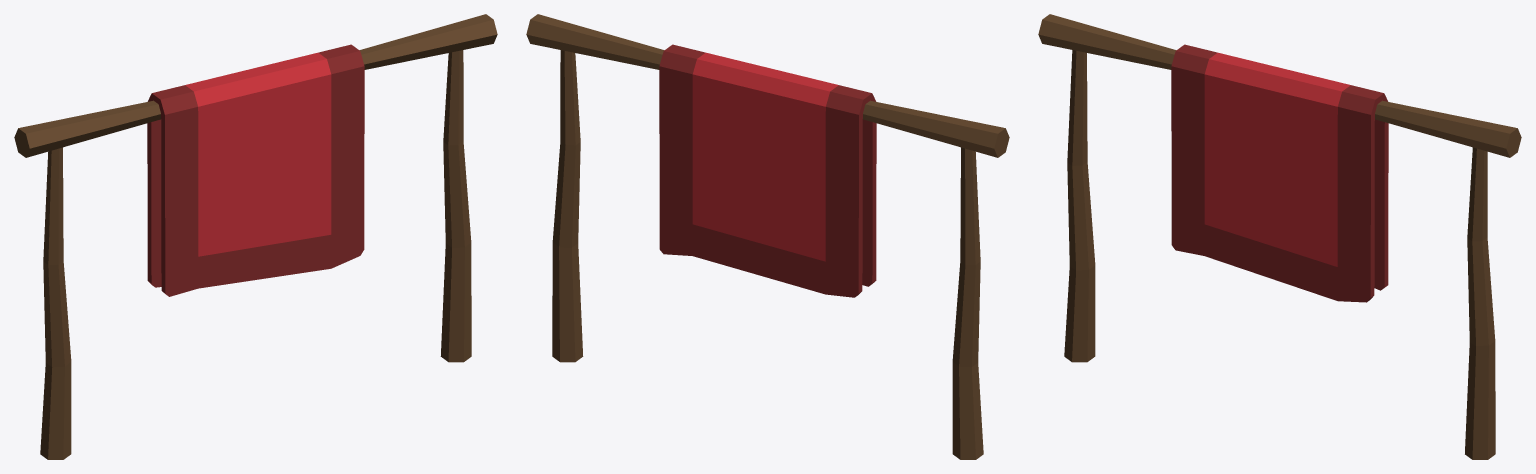
The model's file is egypt-rack.glb.
3 views of the same model, side by side, from view 1: azimuth 30°, elevation 25°; view 2: azimuth 150°, elevation 25°; view 3: azimuth 330°, elevation 25° (orthographic).
Visible parts, largest first — view 1: egypt-rack; view 2: egypt-rack; view 3: egypt-rack.
Part boxes in pixels (<box>): egypt-rack: <box>14,14,497,459</box>; egypt-rack: <box>526,14,1009,459</box>; egypt-rack: <box>1038,14,1521,459</box>.
Bounding box in the file's own units: 3.5 × 2.39 × 0.23.
Materials: 1 (1 with a texture image).
